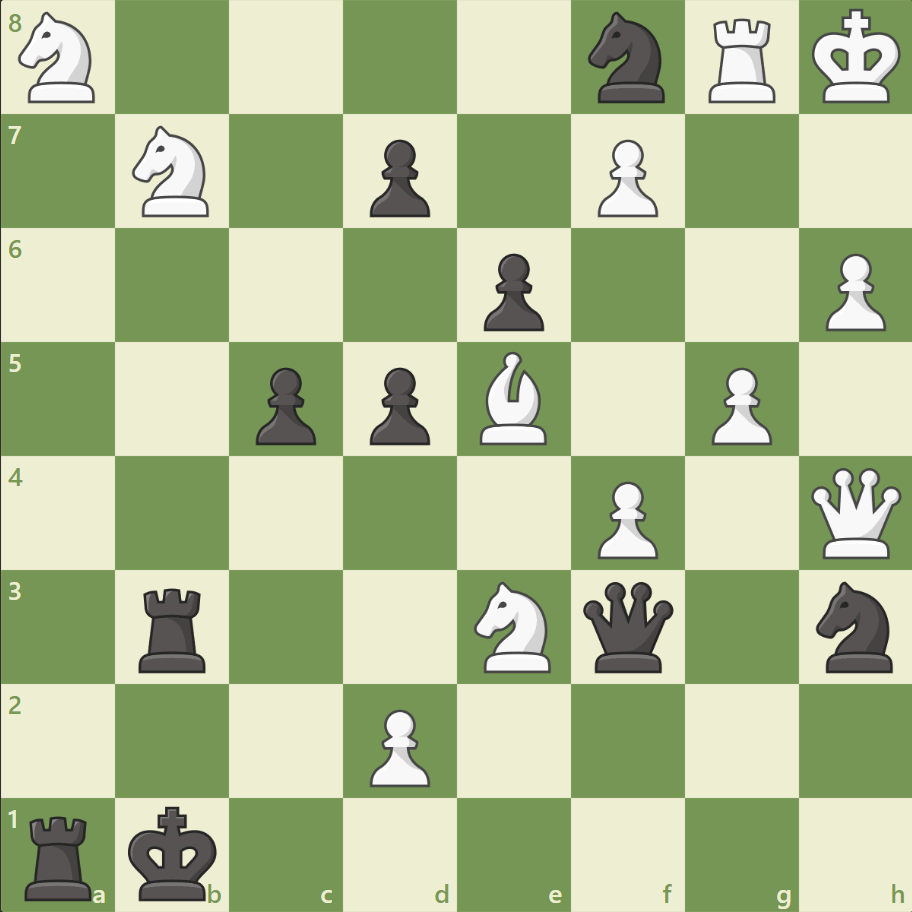B: (471, 347, 555, 449)
K: (806, 4, 906, 112)
N: (124, 121, 222, 223), (11, 7, 108, 110), (465, 575, 562, 677)
P: (701, 359, 776, 450), (588, 132, 662, 223), (815, 246, 889, 337), (588, 473, 662, 564), (361, 700, 435, 791)
Q: (805, 463, 904, 562)
R: (700, 12, 783, 109)
k: (124, 798, 224, 906)
n: (579, 7, 676, 110), (806, 575, 903, 677)
p: (474, 246, 549, 337), (247, 359, 322, 450), (361, 132, 435, 223), (361, 359, 435, 450)
q: (578, 576, 677, 676)
r: (19, 806, 102, 904), (133, 579, 215, 676)
